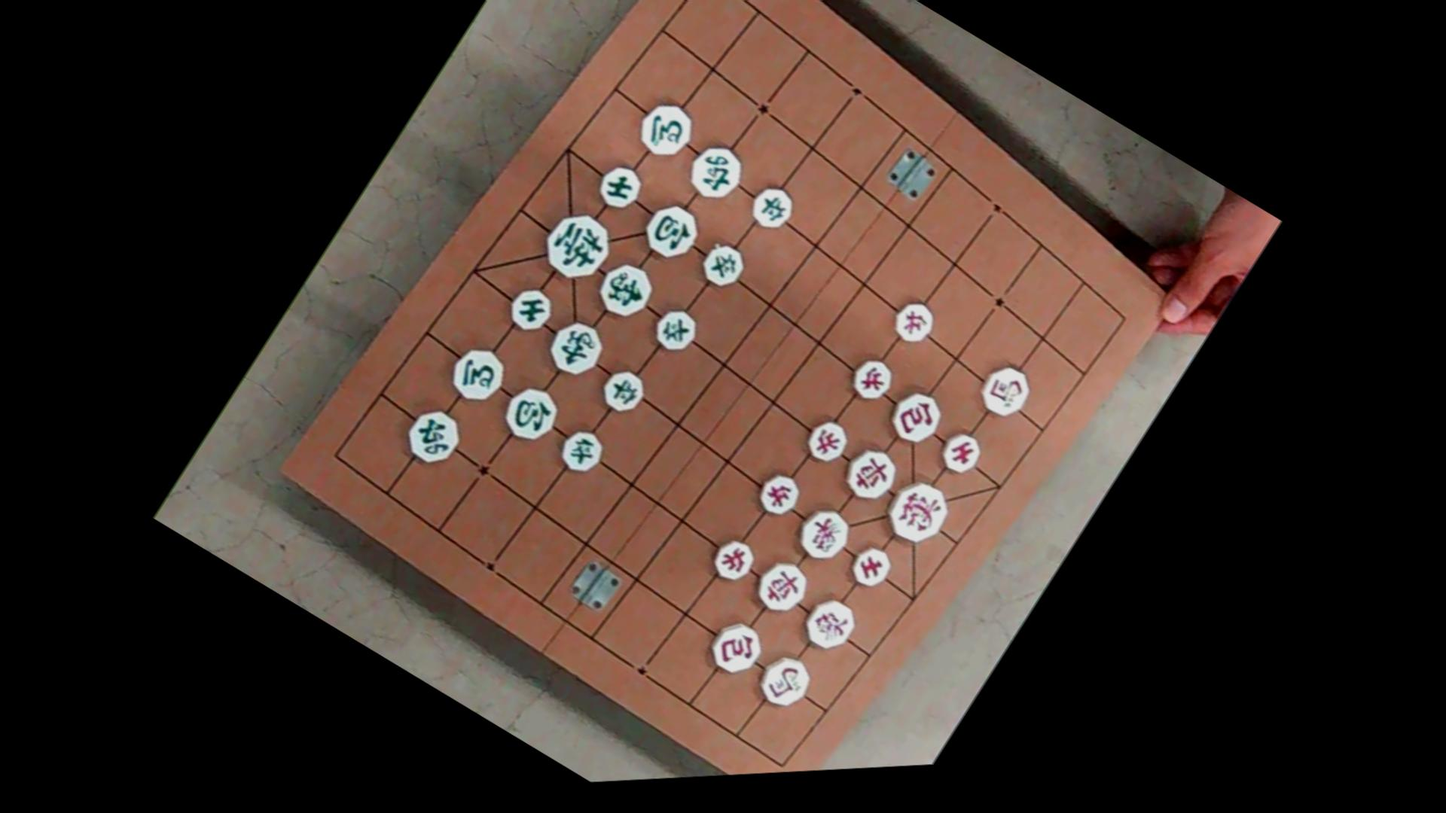cha_green: (399, 399, 469, 471), (682, 136, 752, 206)
cha_red: (837, 437, 905, 507), (749, 551, 815, 620)
jol_green: (745, 178, 801, 234), (648, 300, 703, 357), (596, 361, 651, 418), (697, 236, 752, 292), (554, 422, 609, 478)
jol_red: (887, 292, 941, 348), (753, 465, 807, 520), (707, 532, 761, 586), (800, 413, 853, 468), (847, 352, 899, 405)
ma_green: (631, 93, 700, 164), (444, 337, 512, 408)
ma_red: (752, 645, 819, 714), (972, 356, 1037, 424)
po_green: (636, 193, 707, 266), (496, 376, 566, 448)
po_red: (703, 613, 770, 681), (883, 382, 950, 449)
sa_green: (503, 279, 559, 336), (592, 157, 648, 214)
sa_red: (935, 424, 988, 479), (844, 539, 897, 593)
sang_green: (541, 311, 612, 383), (590, 253, 661, 325)
sang_red: (791, 499, 857, 566), (798, 589, 862, 656)
wang_green: (535, 201, 621, 289)
wang_red: (878, 470, 958, 553)
